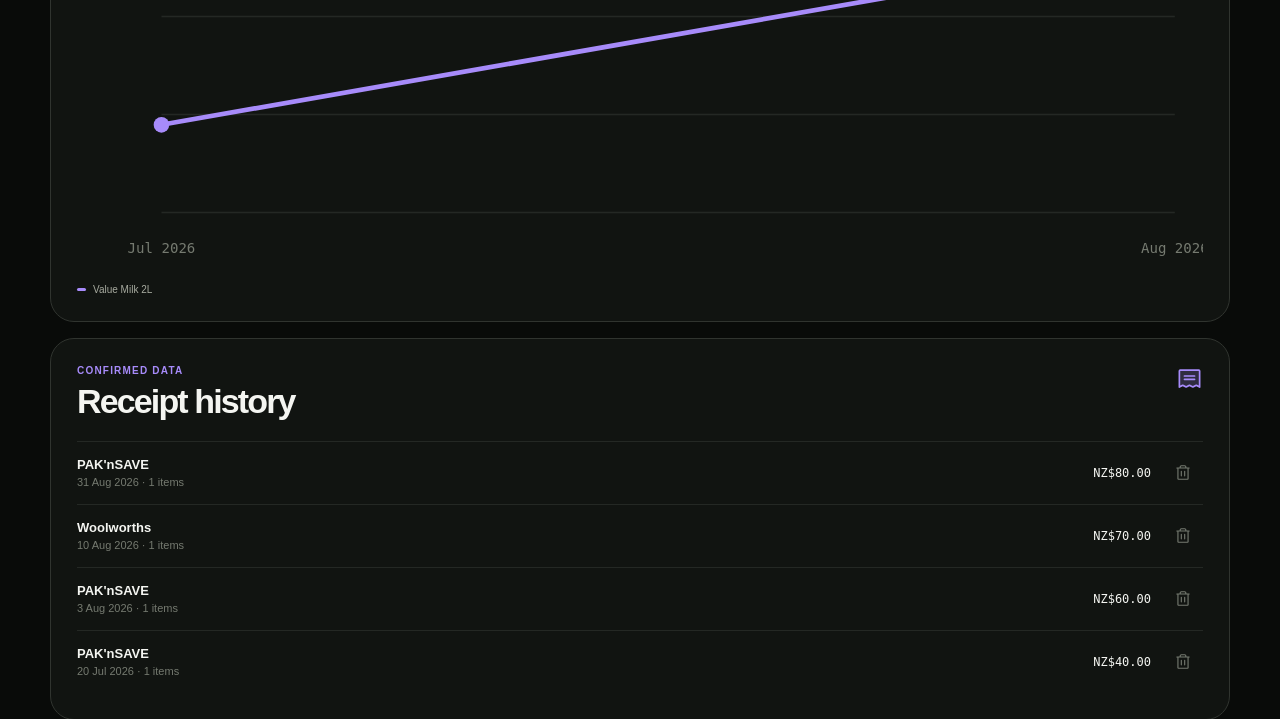
Test: DashboardWorkspace › deletes a confirmed receipt and all of its extracted items after confirmation
(page scrolled)
Click the button named "Delete PAK'nSAVE receipt from 20 Jul 2026" at (1183,662), box x1=1165 y1=644 x2=1201 y2=680
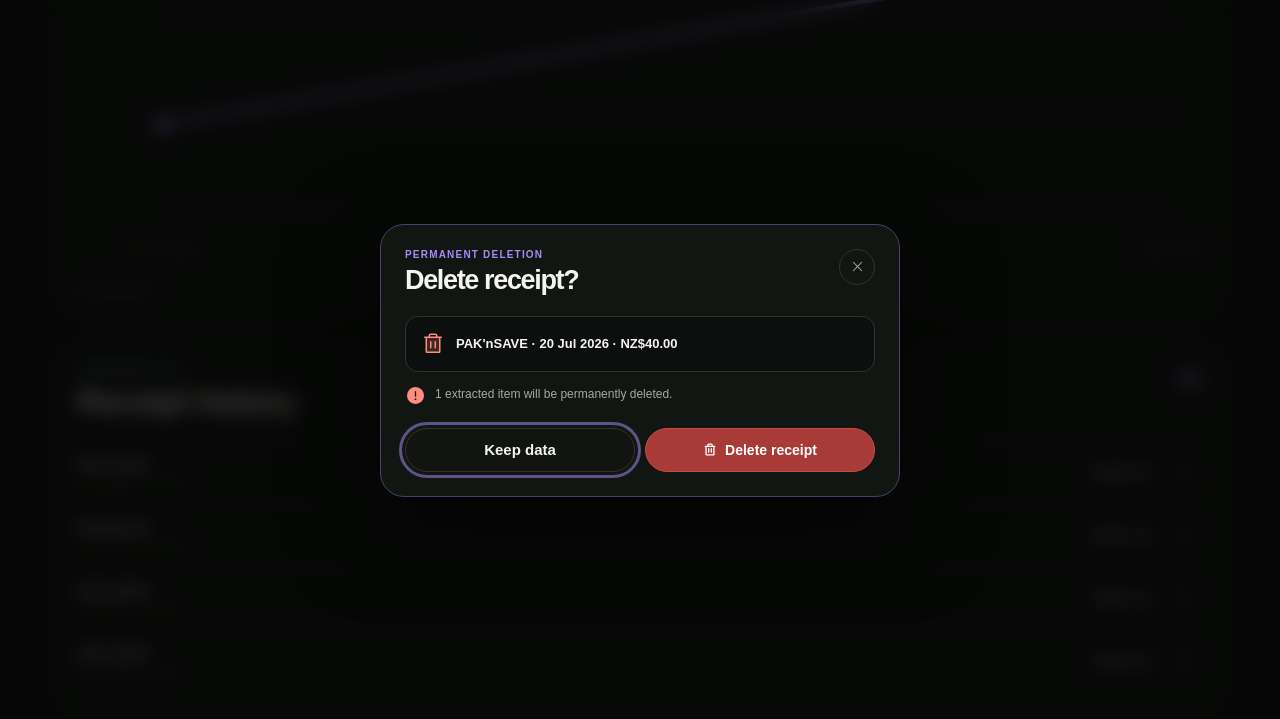
Check: the text "1 extracted item will be permanently deleted." is shown, box x1=435 y1=384 x2=672 y2=402
Click the button "Delete receipt" at (760,450), box x1=645 y1=428 x2=875 y2=472
(page scrolled)
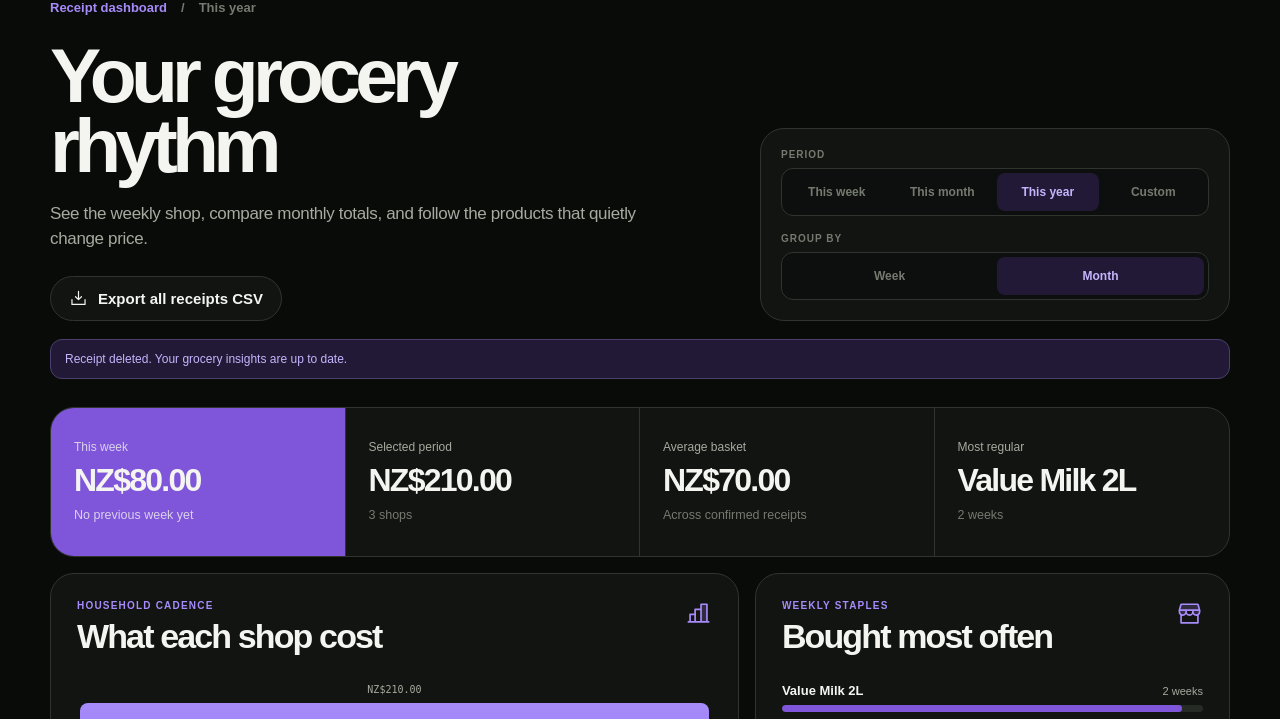
Check: the text "20 Jul 2026" is gone
Check: the message reads "Receipt deleted. Your grocery insights are up to date.", box x1=65 y1=352 x2=347 y2=366
